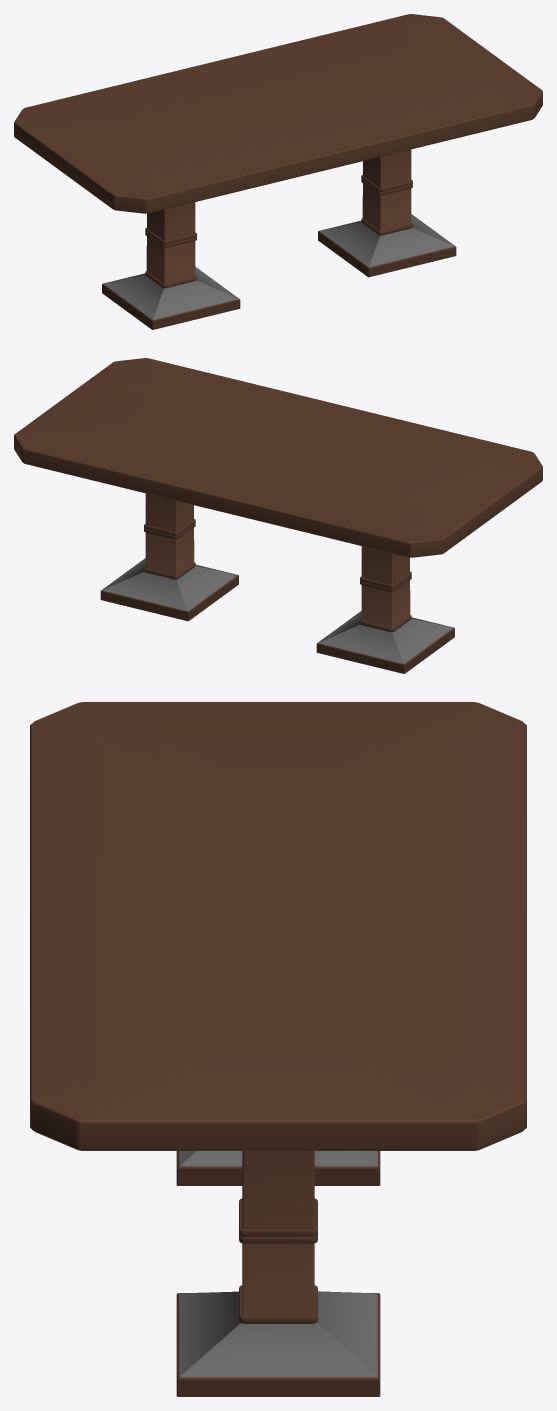
The model's file is Table_v2.fbx.
3 renders of one model, top to bottom at view 1: azimuth 30°, elevation 25°; view 2: azimuth 150°, elevation 25°; view 3: azimuth 270°, elevation 25°, orthographic. The views are drawn at different scales.
Parts seen in each view (by area): view 1: table_top, Table_Leg1, Table_Leg; view 2: table_top, Table_Leg1, Table_Leg; view 3: table_top, Table_Leg1, Table_Leg, deco8, deco9.
Boxes of the visible parts, x1,y1,x2,y2 form: table_top: [14, 14, 542, 213]; Table_Leg1: [318, 149, 456, 277]; Table_Leg: [102, 202, 240, 329]; table_top: [14, 358, 542, 557]; Table_Leg1: [100, 493, 238, 621]; Table_Leg: [316, 546, 454, 673]; table_top: [30, 702, 526, 1150]; Table_Leg1: [176, 1151, 380, 1396]; Table_Leg: [176, 1151, 380, 1185]; deco8: [239, 1285, 317, 1323]; deco9: [239, 1198, 317, 1236].
Size of the model in its own units: 213 by 80.11 by 107.
